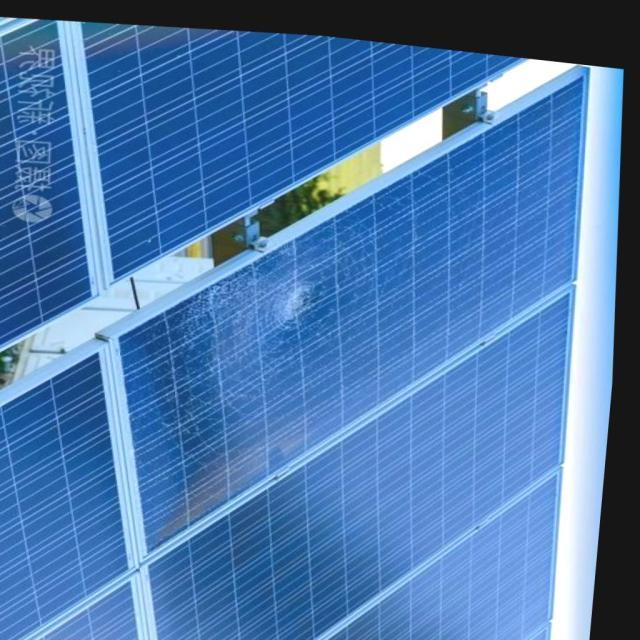cracked: (95, 61, 560, 519)
